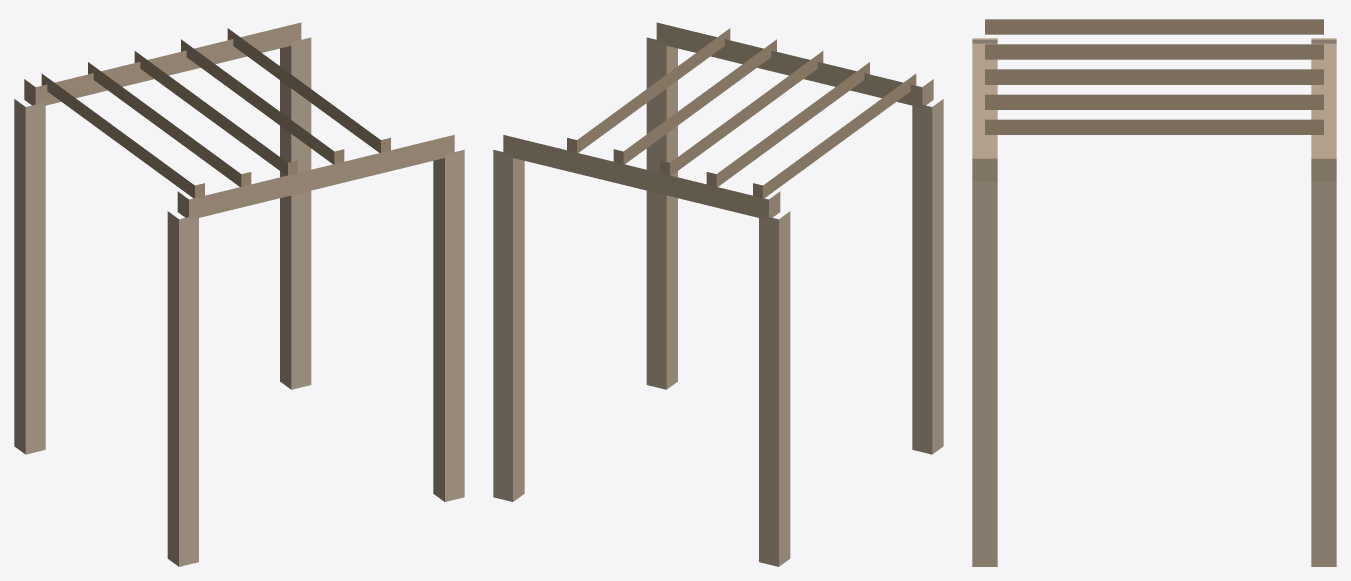
File: pergola.glb
3 views of the same model, side by side, from view 1: azimuth 30°, elevation 25°; view 2: azimuth 150°, elevation 25°; view 3: azimuth 270°, elevation 25° (orthographic). The views are drawn at different scales.
Size of the model in its own units: 1.72 by 2.14 by 1.72.
